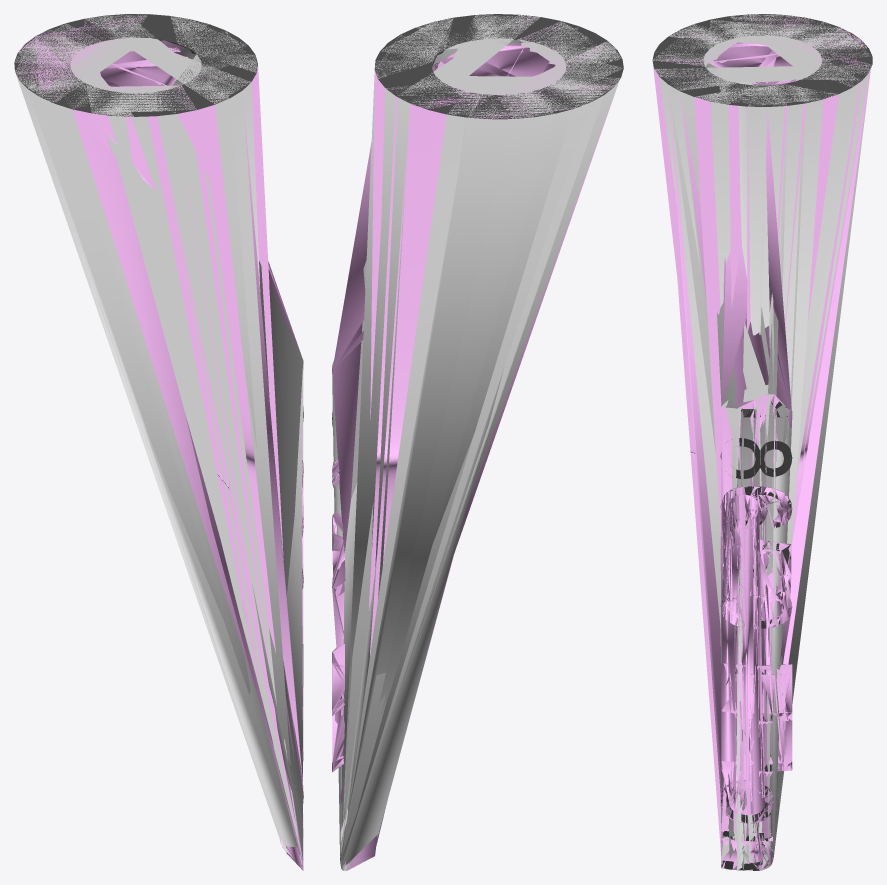
Rendered from CLM_EnsBat3S1P__CLM_18650Battery_1.dae.
3 views of the same model, side by side, from view 1: azimuth 30°, elevation 25°; view 2: azimuth 150°, elevation 25°; view 3: azimuth 270°, elevation 25° (orthographic). The views are drawn at different scales.
Parts seen in each view (by area): view 1: node1, node2, node0; view 2: node1, node2, node0; view 3: node1, node2, node0.
Part boxes in pixels (left/top/right/bottom): node1: left=14, top=14, right=303, bottom=868; node2: left=15, top=14, right=303, bottom=870; node0: left=14, top=14, right=303, bottom=865; node1: left=332, top=15, right=622, bottom=870; node2: left=332, top=15, right=617, bottom=870; node0: left=332, top=14, right=623, bottom=868; node1: left=652, top=14, right=872, bottom=870; node2: left=652, top=14, right=870, bottom=870; node0: left=652, top=14, right=872, bottom=870.
Size of the model in its own units: 0.0153 by 0.0473 by 0.0127.
